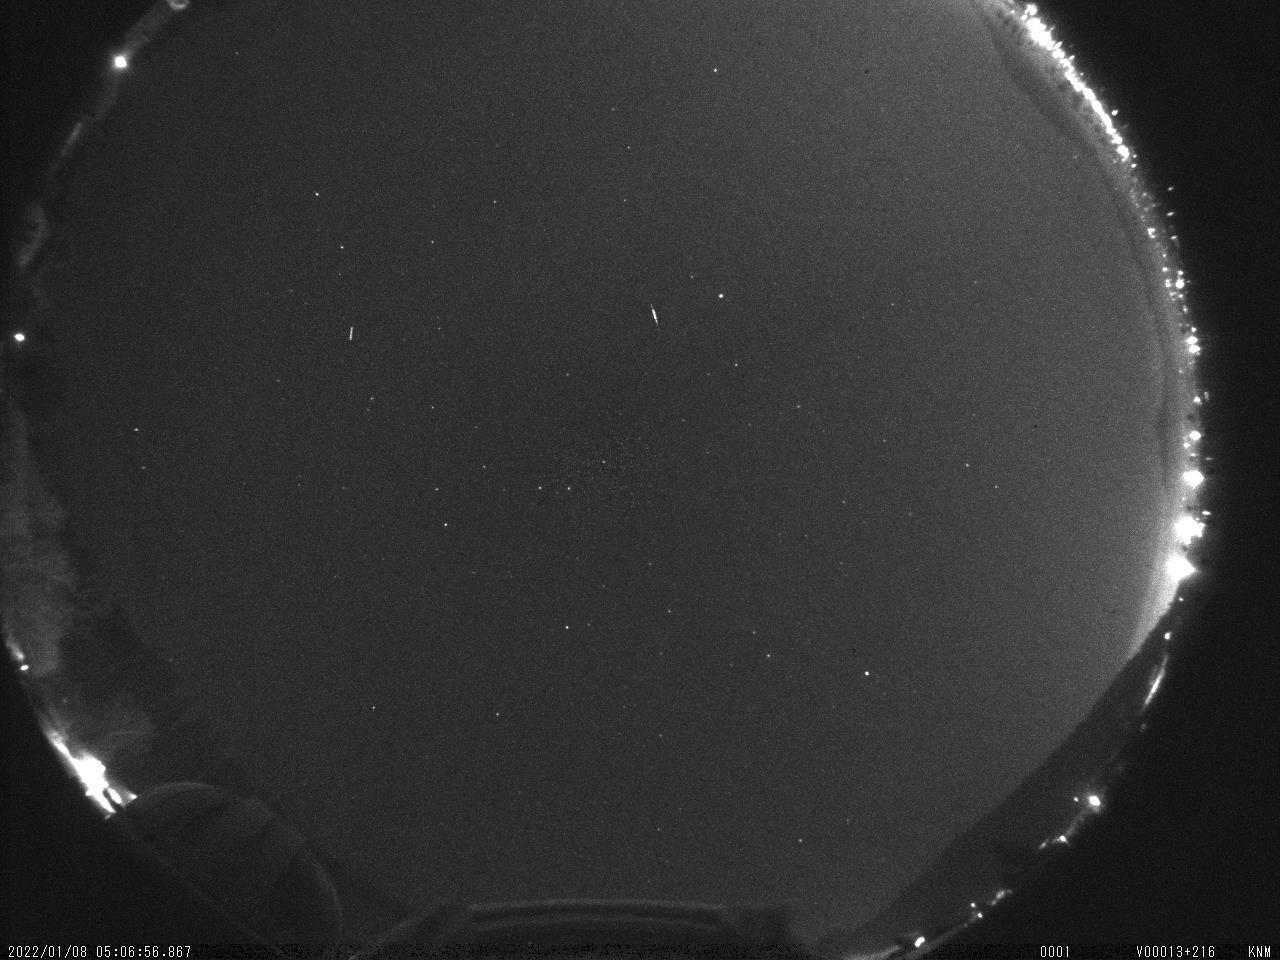Meteor: (644, 297, 665, 335)
